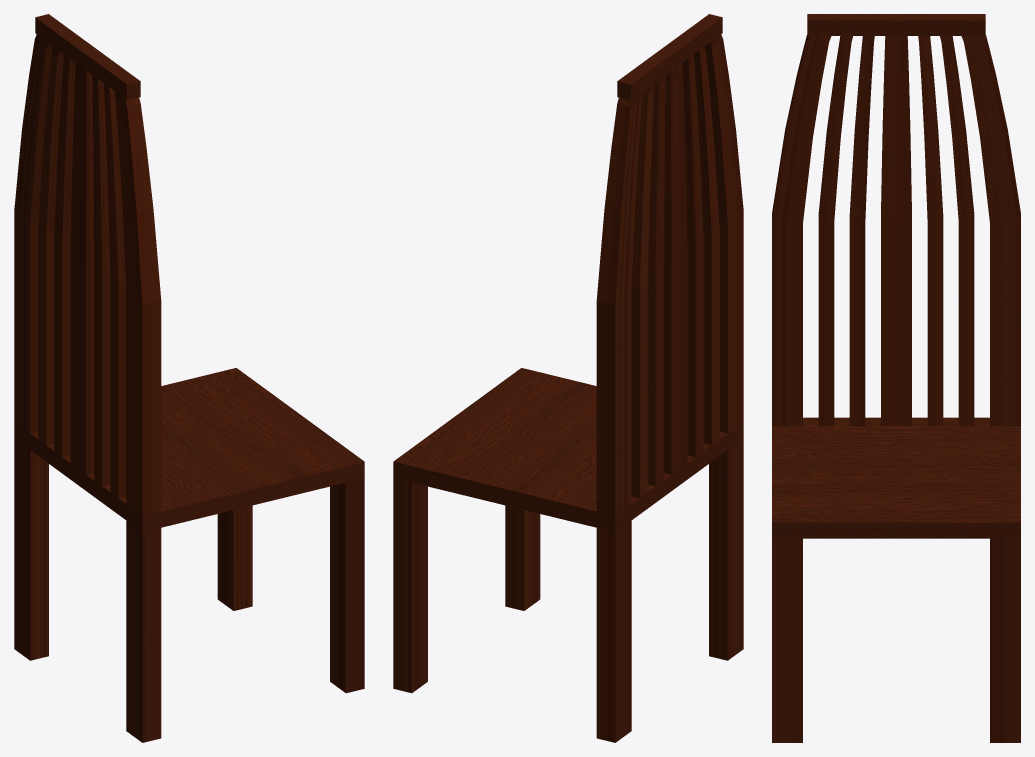
File: Chair2.fbx
The picture shows the model from 3 angles, left to right: view 1: azimuth 30°, elevation 25°; view 2: azimuth 150°, elevation 25°; view 3: azimuth 270°, elevation 25°; orthographic projection. The views are drawn at different scales.
Visible parts, largest first — view 1: Cube; view 2: Cube; view 3: Cube.
Part boxes in pixels (x1,y1,x2,y2): Cube: (14, 14, 364, 742); Cube: (393, 14, 743, 742); Cube: (772, 14, 1020, 742).
Size of the model in its own units: 200 by 554 by 200.
Materials: 1 (1 with a texture image).
